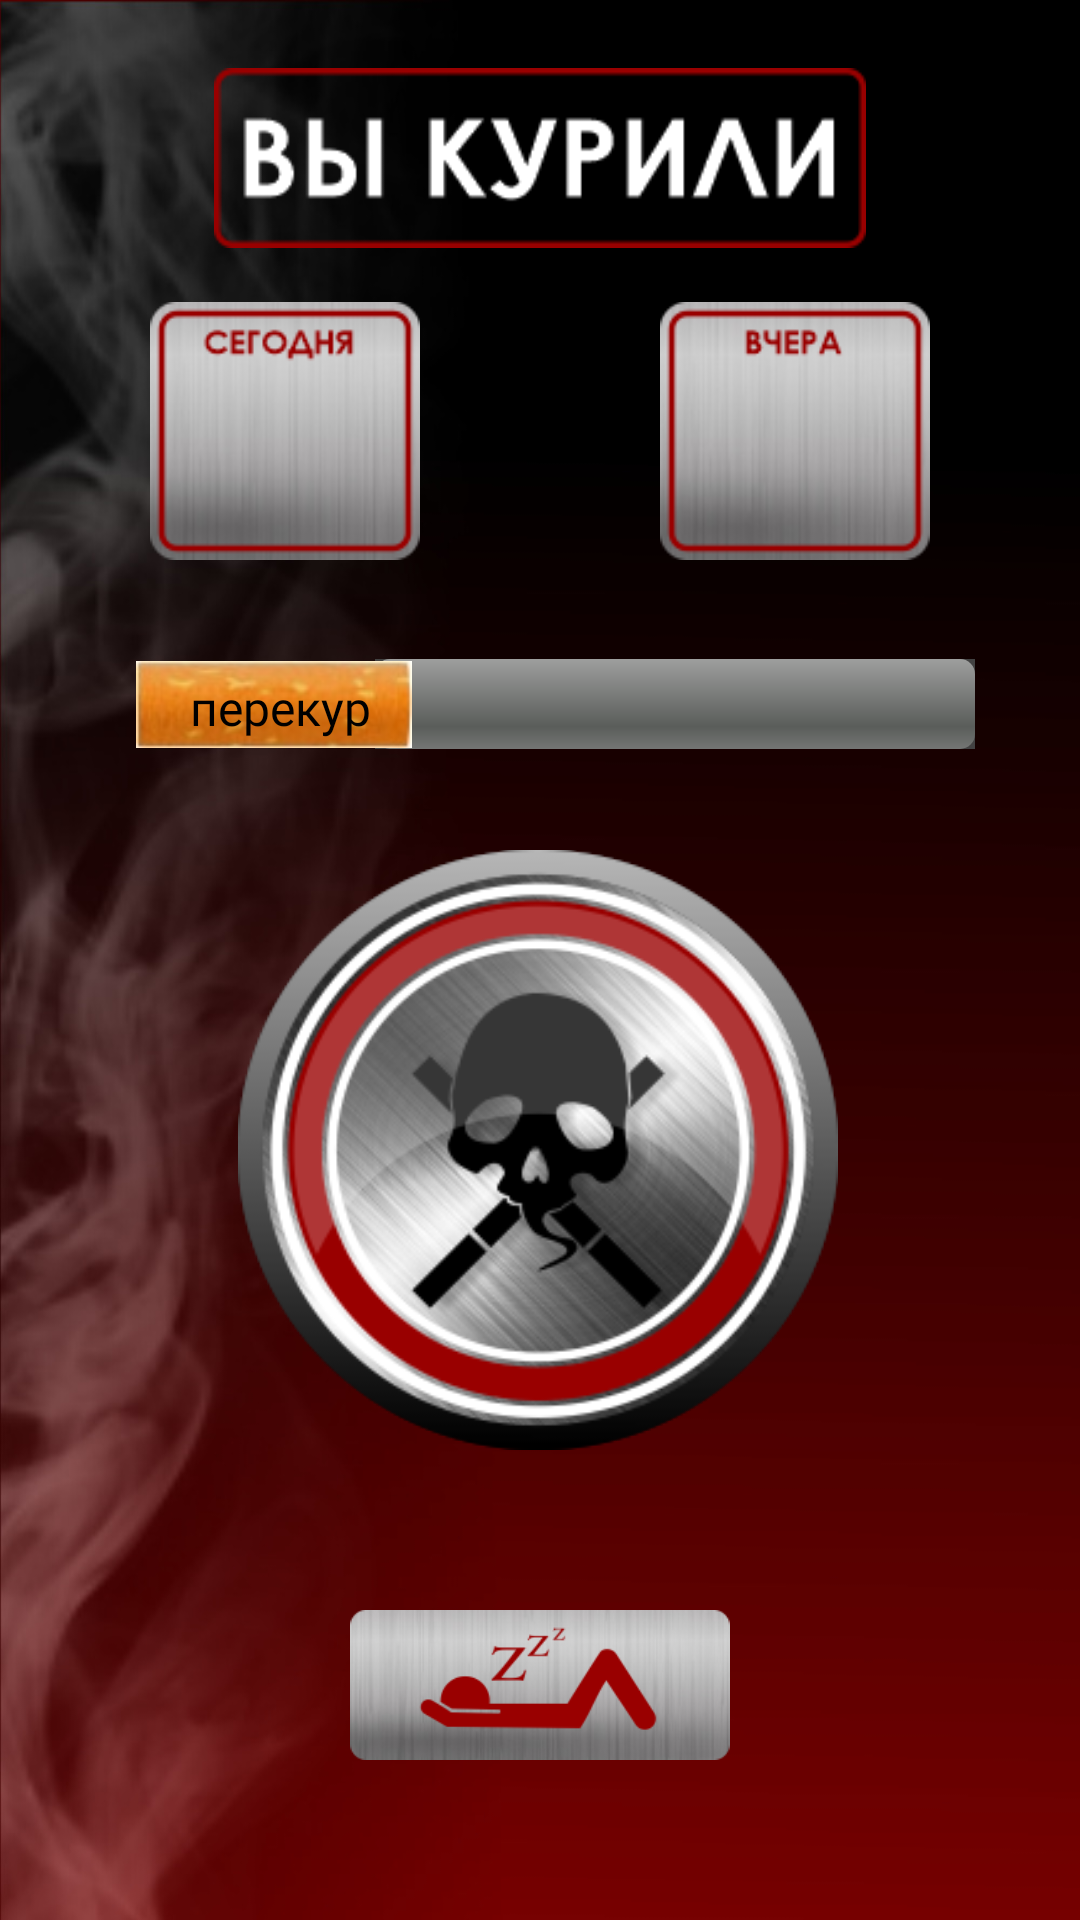

Named icons in this screenshot (1080w x 1920h) and their centers, (x,y):
bichok: (274,704)
